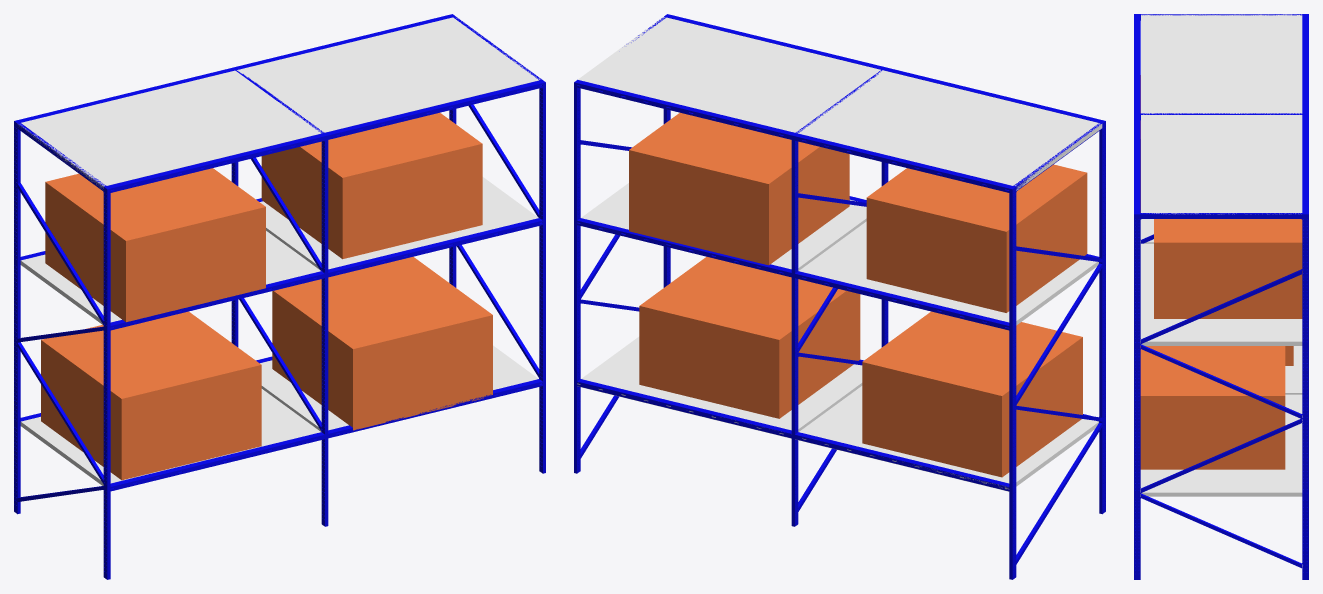
The model's file is Kệ kho lạnh.fbx.
3 renders of one model, left to right at view 1: azimuth 30°, elevation 25°; view 2: azimuth 150°, elevation 25°; view 3: azimuth 270°, elevation 25°, orthographic. The views are drawn at different scales.
Parts seen in each view (by area): view 1: Part 97 (×4), Part 316, Part 340, Part 65 (×3), Part 140 (×3), Part 172 (×3), Part 180 (×3), Part 332, Part 300, Part 308, Part 324, Part 148 (+1 smaller); view 2: Part 97 (×4), Part 316, Part 340, Part 35 (×3), Part 148 (×3), Part 140 (×3), Part 324, Part 308, Part 300, Part 332, Part 65, Part 172 (+1 smaller); view 3: Part 97 (×2), Part 316, Part 340, Part 140 (×3), Part 324, Part 332, Part 172, Part 65, Part 35, Part 300, Part 308.
Part boxes in pixels (x1=…): Part 97 (×4): x1=41, y1=112, x2=492, y2=480; Part 316: x1=18, y1=70, x2=323, y2=189; Part 340: x1=237, y1=17, x2=540, y2=132; Part 65 (×3): x1=103, y1=79, x2=545, y2=492; Part 140 (×3): x1=17, y1=17, x2=541, y2=501; Part 172 (×3): x1=15, y1=85, x2=542, y2=579; Part 180 (×3): x1=104, y1=82, x2=545, y2=579; Part 332: x1=260, y1=177, x2=538, y2=269; Part 300: x1=20, y1=389, x2=320, y2=485; Part 308: x1=20, y1=231, x2=320, y2=325; Part 324: x1=260, y1=345, x2=538, y2=431; Part 148: x1=14, y1=120, x2=20, y2=514; Part 97 (×4): x1=629, y1=112, x2=1087, y2=477; Part 316: x1=796, y1=70, x2=1102, y2=190; Part 340: x1=578, y1=17, x2=883, y2=132; Part 35 (×3): x1=574, y1=79, x2=1016, y2=491; Part 148 (×3): x1=574, y1=82, x2=1016, y2=579; Part 140 (×3): x1=580, y1=16, x2=1102, y2=564; Part 324: x1=577, y1=336, x2=862, y2=438; Part 308: x1=799, y1=221, x2=1098, y2=325; Part 300: x1=795, y1=386, x2=1098, y2=491; Part 332: x1=581, y1=183, x2=866, y2=270; Part 65: x1=664, y1=14, x2=1105, y2=126; Part 172: x1=1013, y1=121, x2=1105, y2=567; Part 97 (×2): x1=1140, y1=219, x2=1302, y2=469; Part 316: x1=1141, y1=14, x2=1302, y2=114; Part 340: x1=1141, y1=113, x2=1302, y2=214; Part 140 (×3): x1=1140, y1=14, x2=1308, y2=579; Part 324: x1=1140, y1=394, x2=1302, y2=496; Part 332: x1=1140, y1=243, x2=1302, y2=345; Part 172: x1=1134, y1=214, x2=1307, y2=579; Part 65: x1=1134, y1=14, x2=1140, y2=218; Part 35: x1=1302, y1=14, x2=1308, y2=218; Part 300: x1=1285, y1=346, x2=1302, y2=394; Part 308: x1=1140, y1=219, x2=1153, y2=243.
Size of the model in its own units: 1410 by 1200 by 520.
